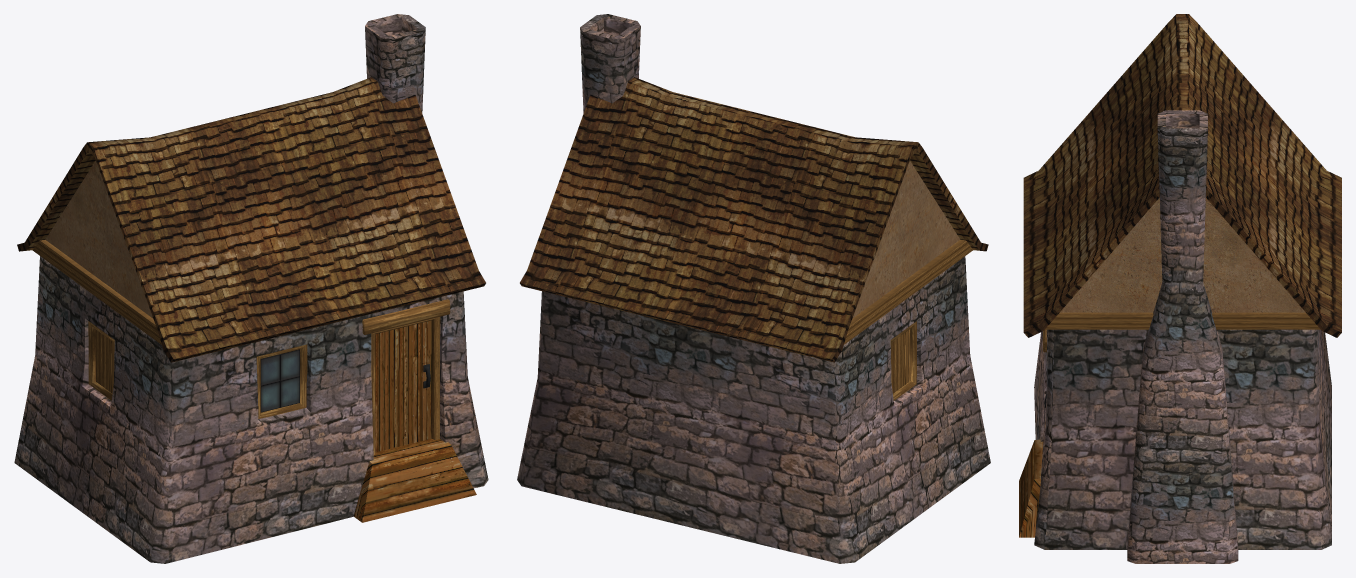
The model's file is BrickHouse1.FBX.
The picture shows the model from 3 angles, left to right: view 1: azimuth 30°, elevation 25°; view 2: azimuth 150°, elevation 25°; view 3: azimuth 270°, elevation 25°; orthographic projection.
Parts seen in each view (by area): view 1: house_brick01_walls, house_brick01_roof; view 2: house_brick01_walls, house_brick01_roof; view 3: house_brick01_walls, house_brick01_roof.
Part boxes in pixels (x1=…): house_brick01_walls: x1=14, y1=14, x2=488, y2=563; house_brick01_roof: x1=17, y1=77, x2=485, y2=362; house_brick01_walls: x1=517, y1=14, x2=990, y2=563; house_brick01_roof: x1=520, y1=77, x2=988, y2=362; house_brick01_walls: x1=1019, y1=110, x2=1331, y2=563; house_brick01_roof: x1=1023, y1=14, x2=1341, y2=337.
Bounding box in the file's own units: 6.28 × 6.71 × 4.71.
